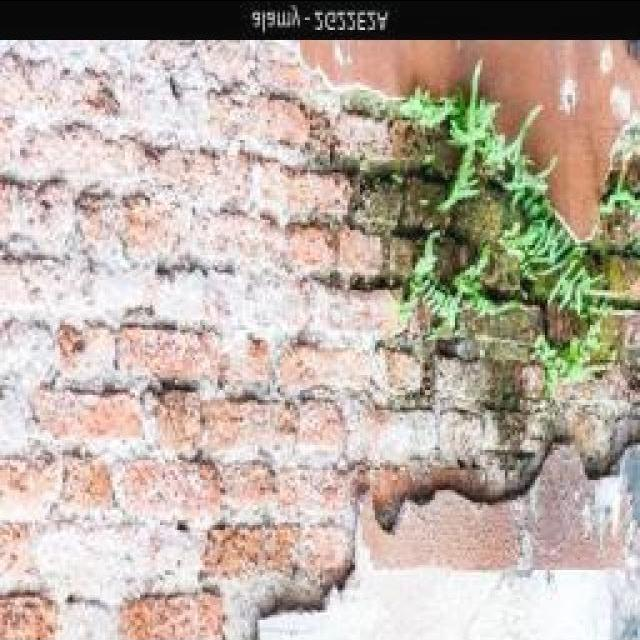Crack: (1, 39, 638, 637)
